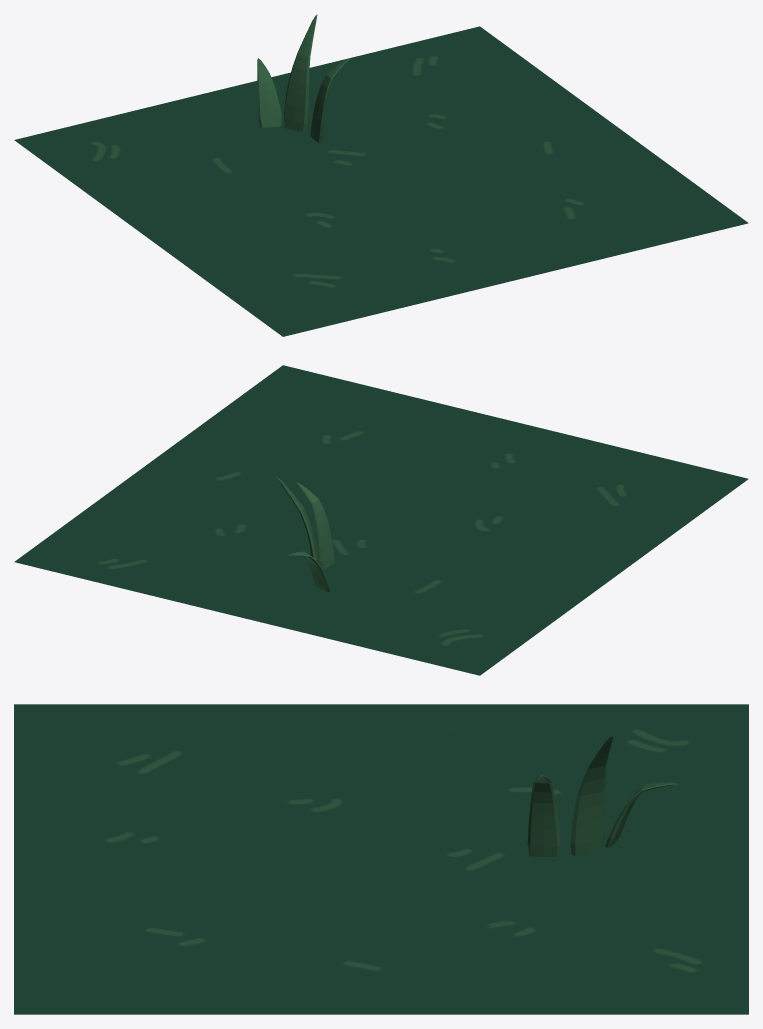
Rendered from Ground_Tiles (1).fbx.
3 renders of one model, top to bottom at view 1: azimuth 30°, elevation 25°; view 2: azimuth 150°, elevation 25°; view 3: azimuth 270°, elevation 25°, orthographic. The views are drawn at different scales.
Visible parts, largest first — view 1: PlanoGrassTiled1; view 2: PlanoGrassTiled1; view 3: PlanoGrassTiled1.
Part boxes in pixels (x1,y1,x2,y2): PlanoGrassTiled1: [14, 14, 748, 336]; PlanoGrassTiled1: [14, 365, 748, 675]; PlanoGrassTiled1: [14, 704, 748, 1014].
Bounding box in the file's own units: 100 × 21.95 × 100.
